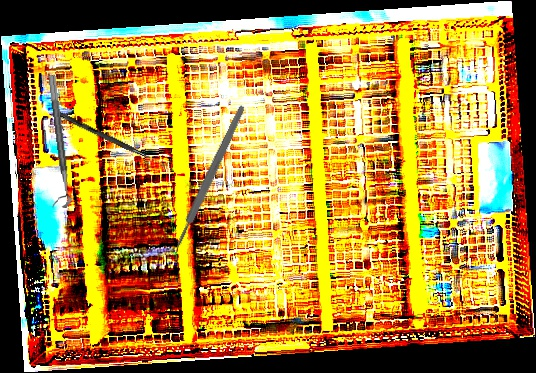Fixation Ring: (36, 74, 73, 210)
Hook Surgical: (54, 110, 168, 168)
Scalpel Handle: (172, 103, 248, 250)
